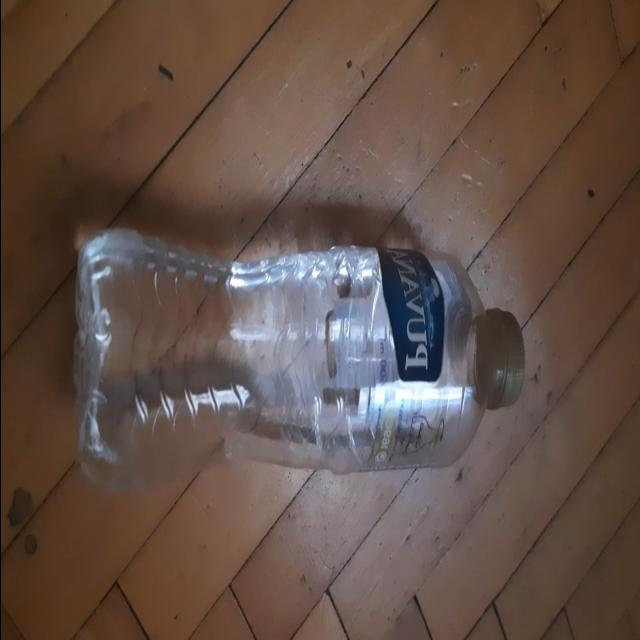Plastic: (69, 228, 524, 494)
